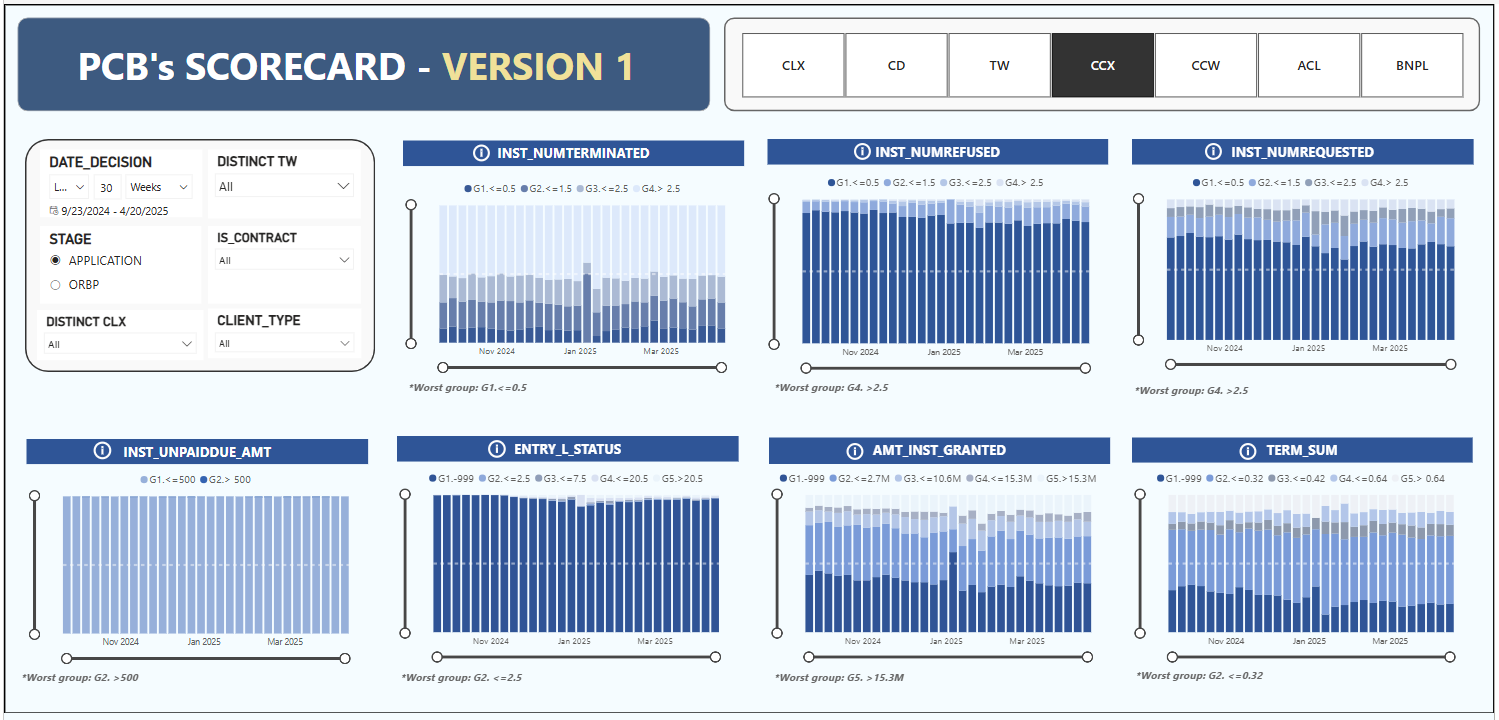

This screenshot's page, from the dashboard's own definition file:
{"tool":"powerbi","page":{"name":"PCBv1 by Week","canvas":[2100,999],"ordinal":0},"visuals":[{"type":"shape","box":[0,0,2100,1000],"z":0},{"type":"shape","box":[30,190,493.3,328.3],"z":0,"group":"g1"},{"type":"textbox","box":[1588.3,190.6,481.4,36],"z":0,"group":"g5"},{"type":"textbox","box":[554.5,609,481,36],"z":0,"group":"g6"},{"type":"textbox","box":[31.6,612.5,481.5,35.2],"z":0,"group":"g4"},{"type":"shape","box":[1015.3,19.4,1065.3,131.9],"z":1000},{"type":"hundredPercentStackedColumnChart","fields":{"Y":["Sum(HIEU_PCB_SCORECARD_REPORT.CNT)"],"Series":["HIEU_PCB_SCORECARD_REPORT.INST_NUMREQUESTED"],"Category":["HIEU_PCB_SCORECARD_REPORT.WEEK_DECISION"]},"box":[1587.1,230.1,483.7,288.4],"z":1000,"group":"g5"},{"type":"hundredPercentStackedColumnChart","fields":{"Y":["Sum(HIEU_PCB_SCORECARD_REPORT.CNT)"],"Series":["HIEU_PCB_SCORECARD_REPORT.ENTRY_L_STATUS"],"Category":["HIEU_PCB_SCORECARD_REPORT.WEEK_DECISION"]},"box":[554.5,646.5,481,284.4],"z":1000,"group":"g6"},{"type":"hundredPercentStackedColumnChart","fields":{"Y":["Sum(HIEU_PCB_SCORECARD_REPORT.CNT)"],"Series":["HIEU_PCB_SCORECARD_REPORT.INST_UNPAIDDUE_AMT"],"Category":["HIEU_PCB_SCORECARD_REPORT.WEEK_DECISION"]},"box":[31.2,648.4,481,284],"z":1000,"group":"g4"},{"type":"shape","box":[20,20,976,132],"z":2000},{"type":"slicer","fields":{"Values":["HIEU_PCB_SCORECARD_REPORT.STAGE"]},"box":[50.2,312,227.5,109.2],"z":2000,"group":"g1"},{"type":"textbox","box":[92,44,808,88],"z":3000},{"type":"slicer","fields":{"Values":["HIEU_PCB_SCORECARD_REPORT.PRODUCT"]},"box":[1016.2,35.3,1063.2,100],"z":4000},{"type":"group","id":"g1","title":"Group 1","box":[30,190,493.3,328.3],"z":5000},{"type":"textbox","box":[1076.9,190.6,479.7,35.9],"z":6000,"group":"g3"},{"type":"group","id":"g2","title":"Group 2","box":[562.5,191.8,481.2,331.2],"z":6000},{"type":"textbox","box":[562.5,191.8,480.6,36],"z":6000,"group":"g2"},{"type":"group","id":"g3","title":"Group 3","box":[1074.5,190.6,482.4,333.4],"z":7000},{"type":"slicer","fields":{"Values":["HIEU_PCB_SCORECARD_REPORT.DATE_DECISION"]},"box":[51,205.2,228.9,95.4],"z":7000,"group":"g1"},{"type":"hundredPercentStackedColumnChart","fields":{"Y":["Sum(HIEU_PCB_SCORECARD_REPORT.CNT)"],"Series":["HIEU_PCB_SCORECARD_REPORT.INST_NUMREFUSED"],"Category":["HIEU_PCB_SCORECARD_REPORT.WEEK_DECISION"]},"box":[1074.5,230.1,482.4,293.9],"z":7000,"group":"g3"},{"type":"hundredPercentStackedColumnChart","fields":{"Series":["HIEU_PCB_SCORECARD_REPORT.INST_NUMTERMINATED"],"Y":["Sum(HIEU_PCB_SCORECARD_REPORT.CNT)"],"Category":["HIEU_PCB_SCORECARD_REPORT.WEEK_DECISION"]},"box":[562.5,238.7,481.2,284.4],"z":7000,"group":"g2"},{"type":"group","id":"g4","title":"Group 5","box":[31.2,612.5,484.4,318.8],"z":8000},{"type":"group","id":"g5","title":"Group 4","box":[1587.1,190.6,481.2,328.1],"z":9000},{"type":"textbox","box":[1076.8,610.7,480.4,37.5],"z":10000},{"type":"textbox","box":[1588.9,611.1,480,35.5],"z":10000,"group":"g7"},{"type":"hundredPercentStackedColumnChart","fields":{"Y":["Sum(HIEU_PCB_SCORECARD_REPORT.CNT)"],"Series":["HIEU_PCB_SCORECARD_REPORT.TERM_SUM"],"Category":["HIEU_PCB_SCORECARD_REPORT.WEEK_DECISION"]},"box":[1588.9,646.6,480,284.4],"z":11000,"group":"g7"},{"type":"hundredPercentStackedColumnChart","fields":{"Y":["Sum(HIEU_PCB_SCORECARD_REPORT.CNT)"],"Series":["HIEU_PCB_SCORECARD_REPORT.AMT_INST_GRANTED"],"Category":["HIEU_PCB_SCORECARD_REPORT.WEEK_DECISION"]},"box":[1078.1,646.9,481.2,284.4],"z":11000},{"type":"group","id":"g6","title":"Group 6","box":[554.5,609,481.2,321.9],"z":12000},{"type":"group","id":"g7","title":"Group 7","box":[1588.9,611.1,480,320],"z":13000},{"type":"textbox","box":[565,523.8,480,32.5],"z":14000},{"type":"textbox","box":[1080,525,480,32.5],"z":15000},{"type":"textbox","box":[1080.4,932.6,480.4,32.6],"z":16000},{"type":"textbox","box":[554.3,932.6,480.4,32.6],"z":17000},{"type":"textbox","box":[19.6,932.6,478.3,32.6],"z":18000},{"type":"textbox","box":[1587,528.3,480.4,32.6],"z":19000},{"type":"textbox","box":[1590,930,480,32.5],"z":20000},{"type":"actionButton","box":[652.9,190.2,47,39.2],"z":21000},{"type":"actionButton","box":[1190.2,188.2,47,39.2],"z":22000},{"type":"actionButton","box":[1684.3,188.2,47,39.2],"z":23000},{"type":"actionButton","box":[1178.4,609.8,47,39.2],"z":24000},{"type":"actionButton","box":[1733.3,609.8,47,39.2],"z":25000},{"type":"actionButton","box":[673.8,607.1,47.6,40.5],"z":26000},{"type":"actionButton","box":[119,609.5,47.6,40.5],"z":27000},{"type":"slicer","fields":{"Values":["HIEU_PCB_SCORECARD_REPORT.FLAG_DISTINCT_CLX"]},"box":[45.8,431.1,234.6,70.6],"z":28000},{"type":"slicer","fields":{"Values":["HIEU_PCB_SCORECARD_REPORT.CLIENT_TYPE"]},"box":[287.6,429.4,215.7,69.9],"z":29000},{"type":"slicer","fields":{"Values":["HIEU_PCB_SCORECARD_REPORT.FLAG_IS_CONTRACT"]},"box":[288.1,311.9,215.6,109.2],"z":30000},{"type":"slicer","fields":{"Values":["HIEU_PCB_SCORECARD_REPORT.FLAG_DISTINCT_TW"]},"box":[288,204.1,215.5,97.3],"z":31000}]}

Visuals, with their boxes in screenshot pixels (x1, y1, x2, y2), scaled from the page's 2100x999 canvas onto the 1499x720 screenshot:
shape: bbox(0, 0, 1498, 719)
shape: bbox(21, 137, 374, 374)
textbox: bbox(1134, 137, 1477, 163)
textbox: bbox(396, 439, 739, 465)
textbox: bbox(23, 441, 366, 467)
shape: bbox(725, 14, 1485, 109)
hundredPercentStackedColumnChart - Sum(HIEU_PCB_SCORECARD_REPORT.CNT) x HIEU_PCB_SCORECARD_REPORT.INST_NUMREQUESTED: bbox(1133, 166, 1478, 374)
hundredPercentStackedColumnChart - Sum(HIEU_PCB_SCORECARD_REPORT.CNT) x HIEU_PCB_SCORECARD_REPORT.ENTRY_L_STATUS: bbox(396, 466, 739, 671)
hundredPercentStackedColumnChart - Sum(HIEU_PCB_SCORECARD_REPORT.CNT) x HIEU_PCB_SCORECARD_REPORT.INST_UNPAIDDUE_AMT: bbox(22, 467, 366, 672)
shape: bbox(14, 14, 711, 110)
slicer - HIEU_PCB_SCORECARD_REPORT.STAGE: bbox(36, 225, 198, 304)
textbox: bbox(66, 32, 642, 95)
slicer - HIEU_PCB_SCORECARD_REPORT.PRODUCT: bbox(725, 25, 1484, 98)
"Group 1" group: bbox(21, 137, 374, 374)
textbox: bbox(769, 137, 1111, 163)
"Group 2" group: bbox(402, 138, 745, 377)
textbox: bbox(402, 138, 745, 164)
"Group 3" group: bbox(767, 137, 1111, 378)
slicer - HIEU_PCB_SCORECARD_REPORT.DATE_DECISION: bbox(36, 148, 200, 217)
hundredPercentStackedColumnChart - Sum(HIEU_PCB_SCORECARD_REPORT.CNT) x HIEU_PCB_SCORECARD_REPORT.INST_NUMREFUSED: bbox(767, 166, 1111, 378)
hundredPercentStackedColumnChart - HIEU_PCB_SCORECARD_REPORT.INST_NUMTERMINATED x Sum(HIEU_PCB_SCORECARD_REPORT.CNT): bbox(402, 172, 745, 377)
"Group 5" group: bbox(22, 441, 368, 671)
"Group 4" group: bbox(1133, 137, 1476, 374)
textbox: bbox(769, 440, 1112, 467)
textbox: bbox(1134, 440, 1477, 466)
hundredPercentStackedColumnChart - Sum(HIEU_PCB_SCORECARD_REPORT.CNT) x HIEU_PCB_SCORECARD_REPORT.TERM_SUM: bbox(1134, 466, 1477, 671)
hundredPercentStackedColumnChart - Sum(HIEU_PCB_SCORECARD_REPORT.CNT) x HIEU_PCB_SCORECARD_REPORT.AMT_INST_GRANTED: bbox(770, 466, 1113, 671)
"Group 6" group: bbox(396, 439, 739, 671)
"Group 7" group: bbox(1134, 440, 1477, 671)
textbox: bbox(403, 378, 746, 401)
textbox: bbox(771, 378, 1114, 402)
textbox: bbox(771, 672, 1114, 696)
textbox: bbox(396, 672, 739, 696)
textbox: bbox(14, 672, 355, 696)
textbox: bbox(1133, 381, 1476, 404)
textbox: bbox(1135, 670, 1478, 694)
actionButton: bbox(466, 137, 500, 165)
actionButton: bbox(850, 136, 883, 164)
actionButton: bbox(1202, 136, 1236, 164)
actionButton: bbox(841, 439, 875, 468)
actionButton: bbox(1237, 439, 1271, 468)
actionButton: bbox(481, 438, 515, 467)
actionButton: bbox(85, 439, 119, 468)
slicer - HIEU_PCB_SCORECARD_REPORT.FLAG_DISTINCT_CLX: bbox(33, 311, 200, 362)
slicer - HIEU_PCB_SCORECARD_REPORT.CLIENT_TYPE: bbox(205, 309, 359, 360)
slicer - HIEU_PCB_SCORECARD_REPORT.FLAG_IS_CONTRACT: bbox(206, 225, 360, 303)
slicer - HIEU_PCB_SCORECARD_REPORT.FLAG_DISTINCT_TW: bbox(206, 147, 359, 217)
